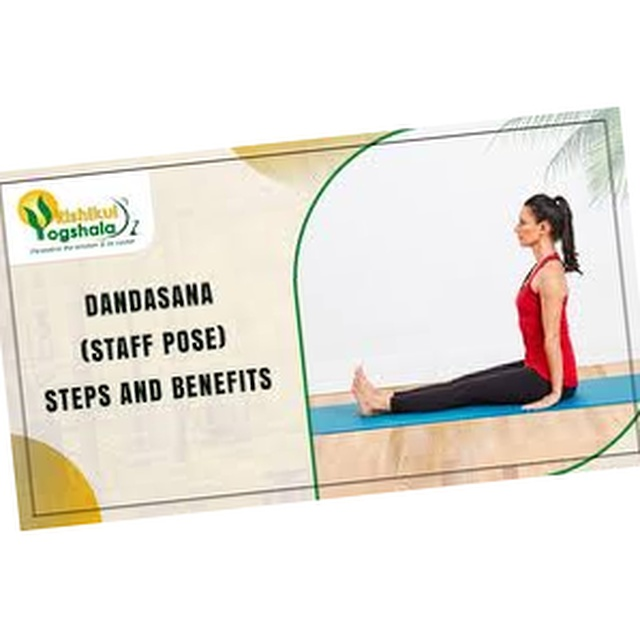Staff_Pose: (351, 194, 586, 423)
